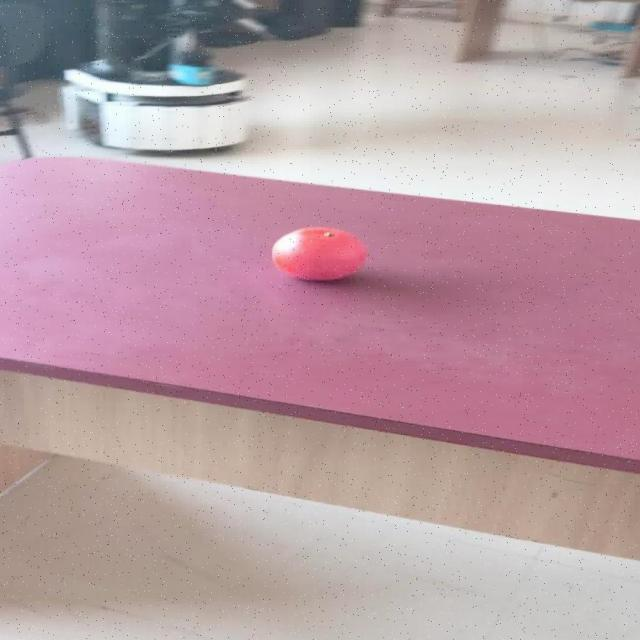Orange: (270, 226, 366, 281)
